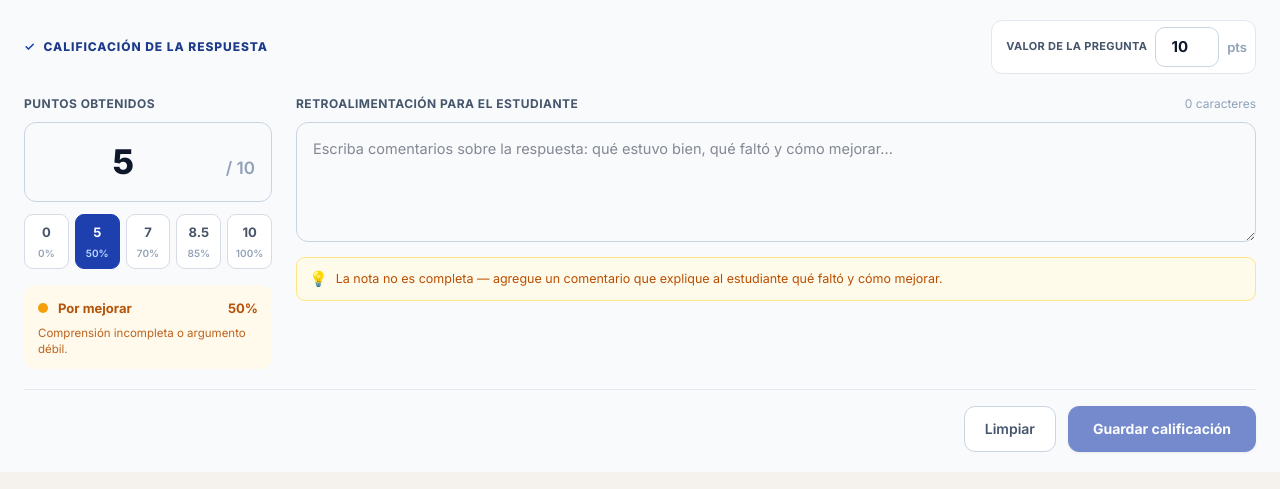
Test: QuestionGradingPanel › shows the incomplete-grade hint when the score is below max and feedback is empty
expect the text "La nota no es completa" is shown: met, box [336,271,942,286]
Replace the text in the text box labelled "Retroalimentación para el estudiante" with "comentario": coordinates (776, 182) [296,122,1256,242]
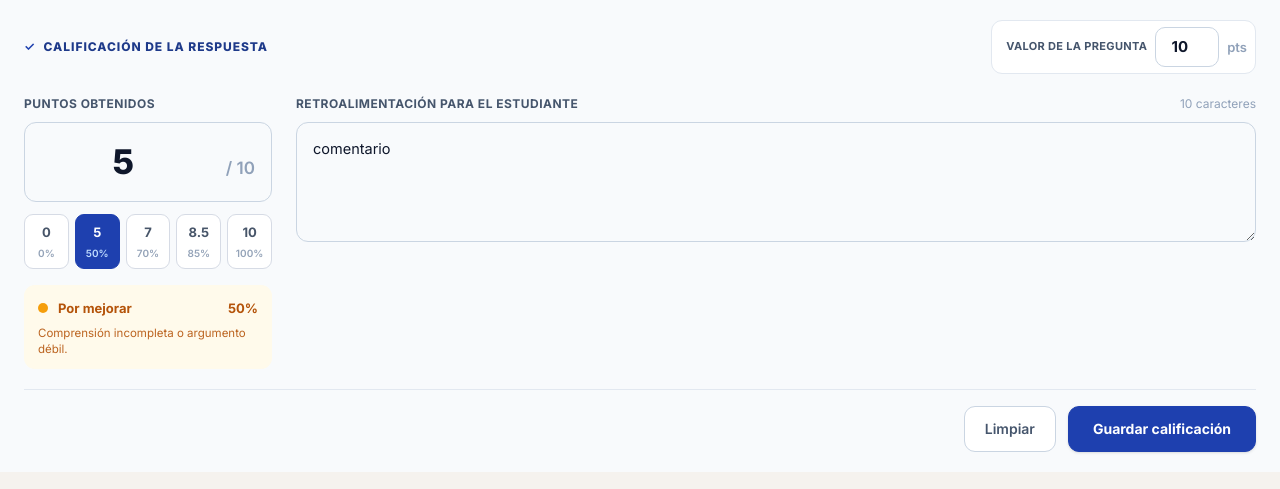
expect the text "La nota no es completa" is gone: met
